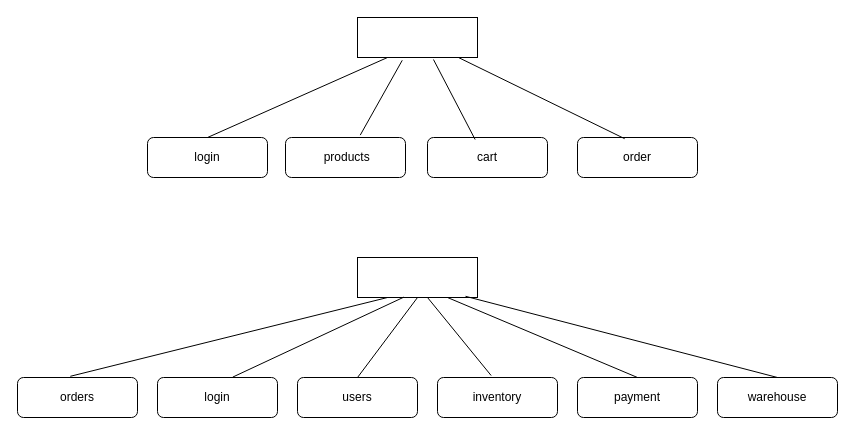
The diagram is 855 pixels wide and 435 high, and some of its shapes have lost their labels. The centre of each missing label's shape, as x and y in pixels:
"ADMIN" belongs at point 417,277.
"USER" belongs at point 417,37.
